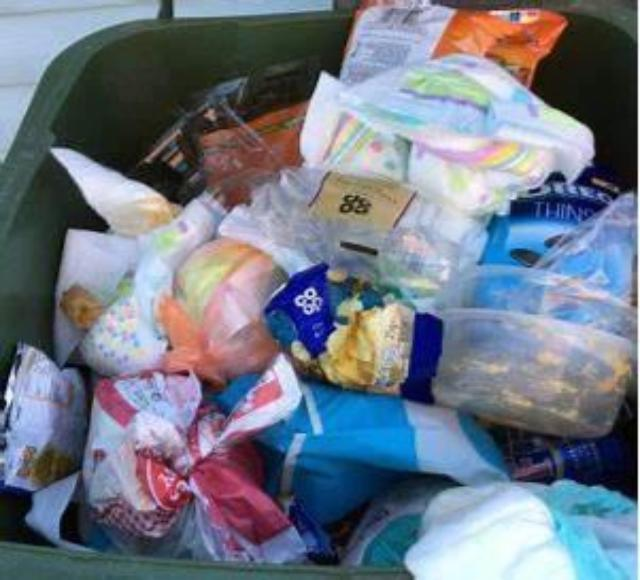Garbage: (0, 1, 640, 579)
Plastic: (256, 383, 508, 558)
Plastic_Bag: (83, 355, 305, 562), (474, 194, 637, 341), (405, 481, 635, 580)
Plastic_Container: (432, 309, 633, 438)
Plastic_wraper: (219, 169, 485, 312), (131, 58, 320, 208), (340, 0, 567, 86), (265, 264, 415, 393), (157, 237, 288, 383), (490, 397, 636, 497), (480, 167, 621, 267), (5, 344, 87, 491)
